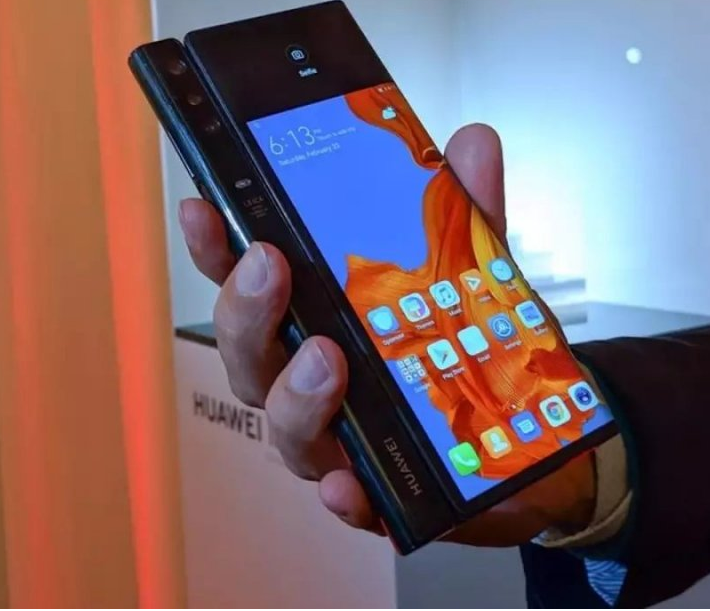phone: (136, 11, 613, 547)
